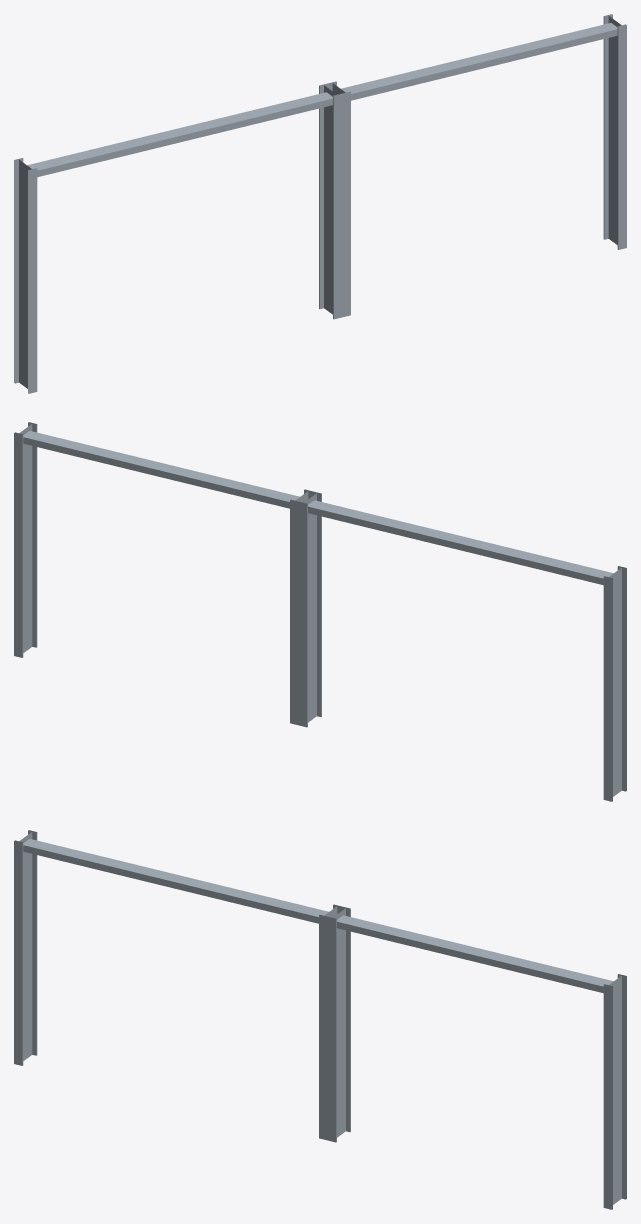
Rendered from SM06_Building_Structure_Wall_Top_04_Corner.fbx.
The picture shows the model from 3 angles, top to bottom: view 1: azimuth 30°, elevation 25°; view 2: azimuth 150°, elevation 25°; view 3: azimuth 330°, elevation 25°; orthographic projection.
Visible parts, largest first — view 1: SM06_Building_Structure_Wall_Top_04_Corner; view 2: SM06_Building_Structure_Wall_Top_04_Corner; view 3: SM06_Building_Structure_Wall_Top_04_Corner.
Part boxes in pixels (x1,y1,x2,y2): SM06_Building_Structure_Wall_Top_04_Corner: (14,14,626,393); SM06_Building_Structure_Wall_Top_04_Corner: (14,422,626,801); SM06_Building_Structure_Wall_Top_04_Corner: (14,830,626,1209).
Bounding box in the file's own units: 13.83 × 4.93 × 0.59.
